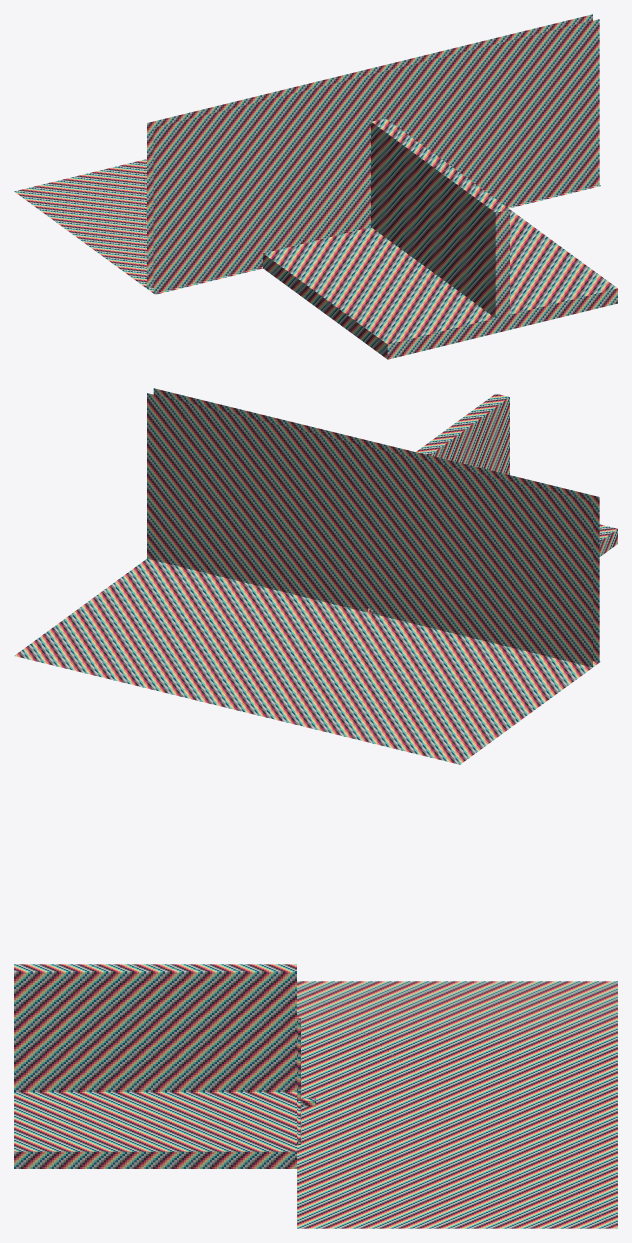
Rendered from 230720_room.glb.
The picture shows the model from 3 angles, top to bottom: view 1: azimuth 30°, elevation 25°; view 2: azimuth 150°, elevation 25°; view 3: azimuth 270°, elevation 25°; orthographic projection. The views are drawn at different scales.
Parts seen in each view (by area): view 1: wallOutside, wallOutsideHoleMaxHeight, ceilingRoomMaxWidth, wallRoomMaxHeight, wallOutsideHoleMaxWidth, floorOutside, wallRoomMaxWidth, wallOutsideMaxDepth, ceilingRoomMaxHeight; view 2: wallOutsideMaxDepth, floorOutside, wallRoomMaxHeight, wallOutsideHoleMaxWidth, wallOutside, ceilingRoomMaxHeight, wallOutsideHoleMaxHeight; view 3: floorOutside, wallRoomMaxHeight, ceilingRoomMaxWidth, wallRoomMaxWidth, ceilingRoomMaxHeight.
Part boxes in pixels (<box>): wallOutside: <box>153,19,599,293</box>; wallOutsideHoleMaxHeight: <box>153,20,599,292</box>; ceilingRoomMaxWidth: <box>263,209,617,344</box>; wallRoomMaxHeight: <box>371,122,509,331</box>; wallOutsideHoleMaxWidth: <box>153,20,599,293</box>; floorOutside: <box>14,159,600,294</box>; wallRoomMaxWidth: <box>263,253,617,359</box>; wallOutsideMaxDepth: <box>147,14,592,288</box>; ceilingRoomMaxHeight: <box>371,118,509,212</box>; wallOutsideMaxDepth: <box>147,393,592,667</box>; floorOutside: <box>14,558,600,764</box>; wallRoomMaxHeight: <box>430,397,509,474</box>; wallOutsideHoleMaxWidth: <box>153,388,599,661</box>; wallOutside: <box>153,388,599,662</box>; ceilingRoomMaxHeight: <box>416,393,509,455</box>; wallOutsideHoleMaxHeight: <box>156,389,599,662</box>; floorOutside: <box>297,981,617,1228</box>; wallRoomMaxHeight: <box>14,972,296,1091</box>; ceilingRoomMaxWidth: <box>14,1092,296,1151</box>; wallRoomMaxWidth: <box>14,1151,296,1168</box>; ceilingRoomMaxHeight: <box>14,964,296,972</box>.
Size of the model in its own units: 31 by 11 by 32.
7 materials, 7 textured.
